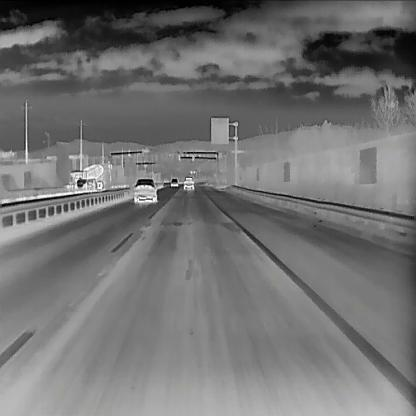car: (132, 177, 158, 203), (73, 178, 89, 192), (182, 176, 194, 190), (86, 177, 97, 191), (169, 177, 178, 186)
truck: (67, 162, 104, 192)
